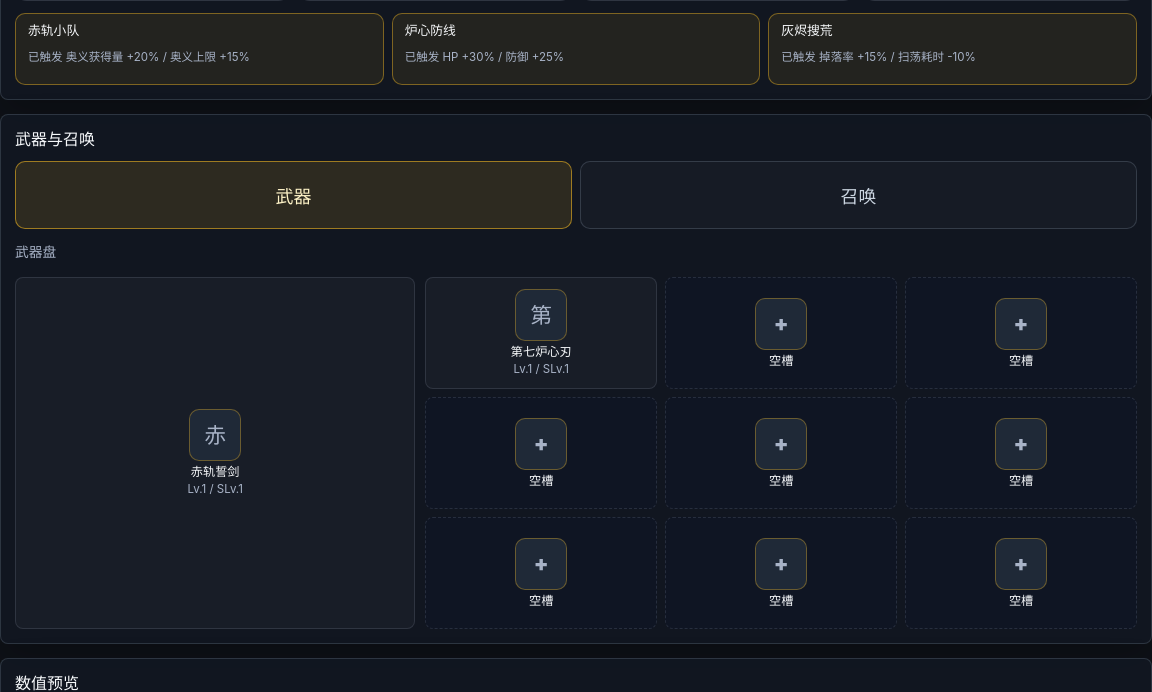
Test case: formation screen › equips into the clicked sub slot instead of always replacing the main slot
The width and height of the screenshot is (1152, 692).
(page scrolled)
Click the button with test id "weapon-slot-trigger-2" at (781, 333), box x1=665 y1=277 x2=897 y2=389
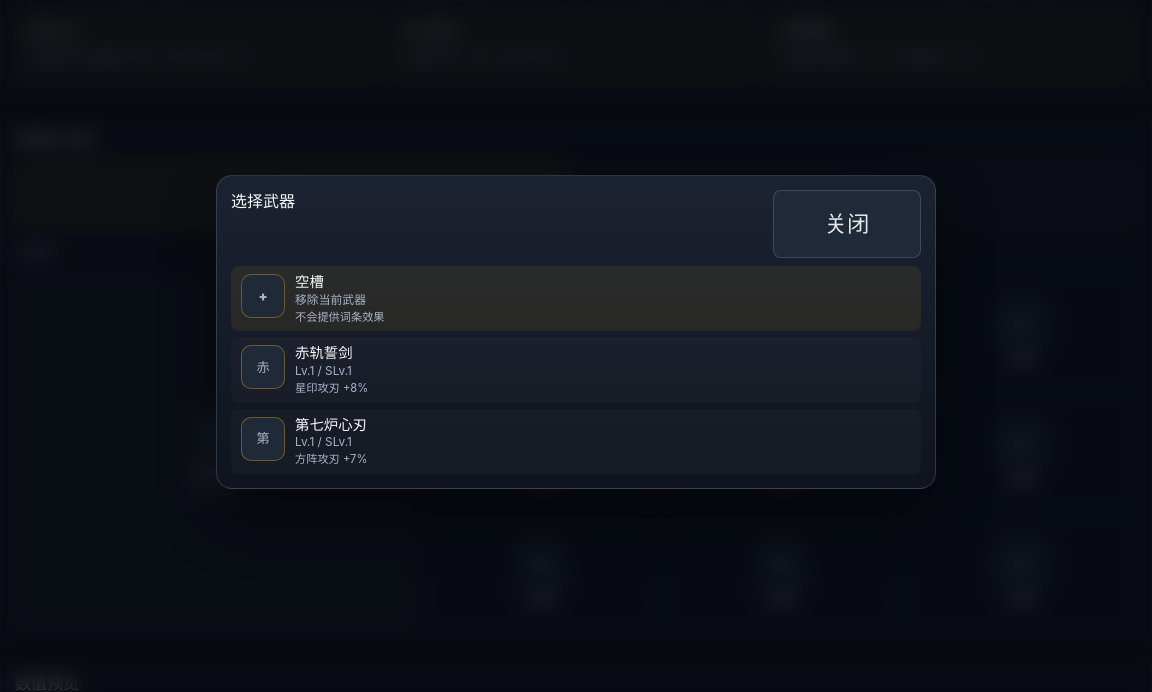
Click the button with test id "weapon-picker-option-weapon-furnace-grid-blade" at (263, 439), box x1=231 y1=408 x2=921 y2=474
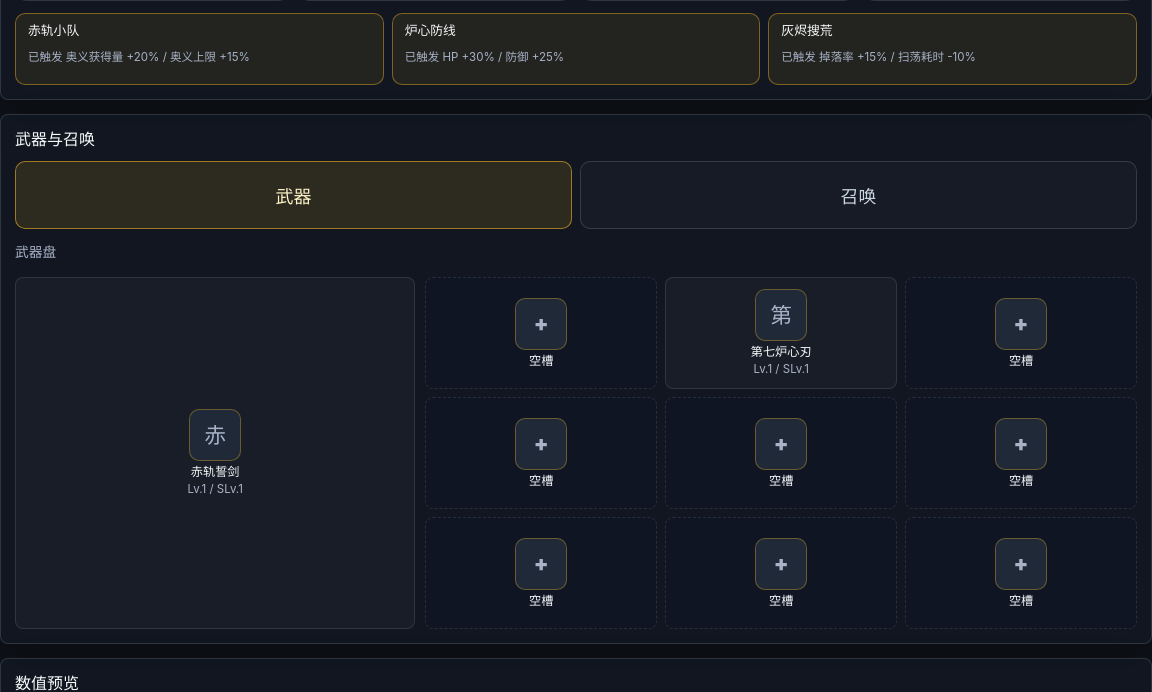
Expected: the element with test id "weapon-main-slot" shows "赤轨", x1=15 y1=277 x2=415 y2=629
Result: the button with test id "weapon-slot-trigger-2" shows "第七炉心" at x1=665 y1=277 x2=897 y2=389
